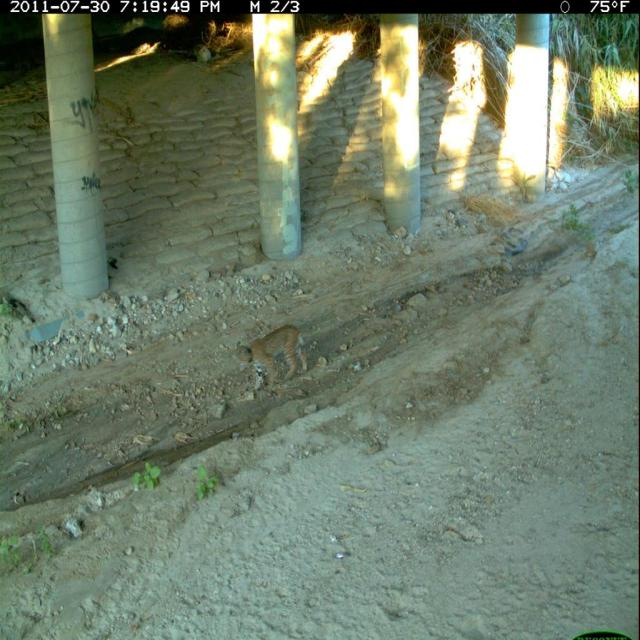bobcat: (229, 319, 310, 398)
